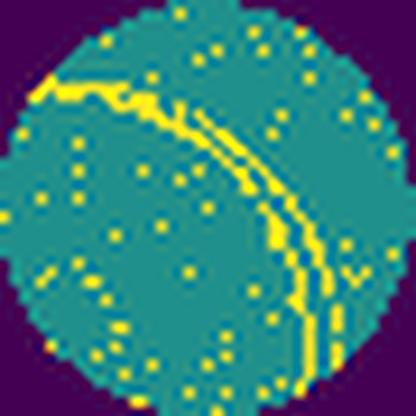Scratch: (29, 72, 348, 384)
